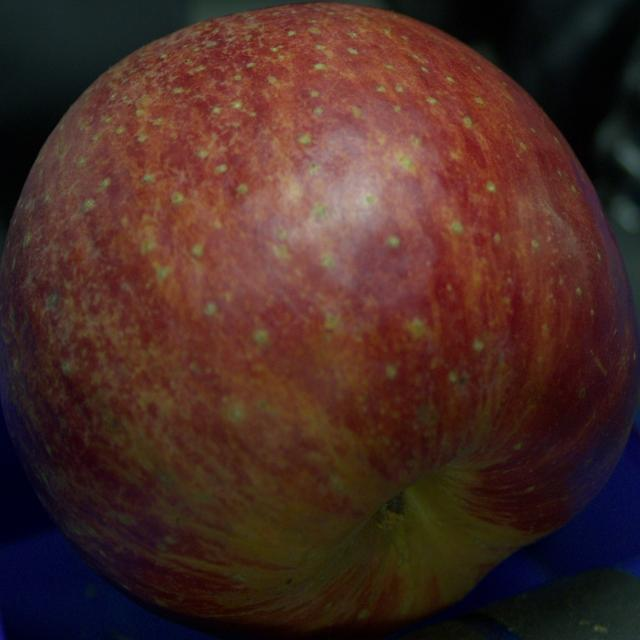apple: (0, 3, 639, 639)
pest: (414, 401, 442, 427), (16, 306, 32, 344), (40, 291, 64, 313)
